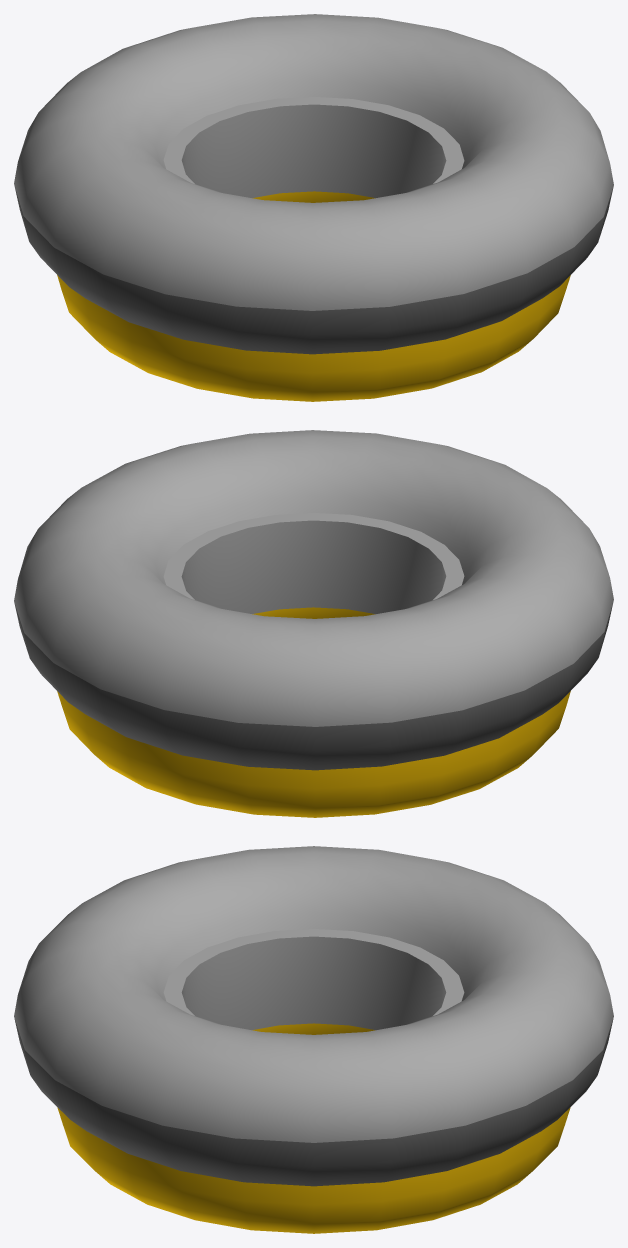
Rendered from DecorMachine_Pastry_MachineBase.FBX.
The picture shows the model from 3 angles, top to bottom: view 1: azimuth 30°, elevation 25°; view 2: azimuth 150°, elevation 25°; view 3: azimuth 270°, elevation 25°; orthographic projection.
Parts seen in each view (by area): view 1: DecorMachine_Pastry_MachineBase; view 2: DecorMachine_Pastry_MachineBase; view 3: DecorMachine_Pastry_MachineBase.
Part boxes in pixels (x1,y1,x2,y2): DecorMachine_Pastry_MachineBase: (14,14,613,401); DecorMachine_Pastry_MachineBase: (14,430,613,817); DecorMachine_Pastry_MachineBase: (14,846,613,1233).
Bounding box in the file's own units: 5359 × 1915 × 5359.
